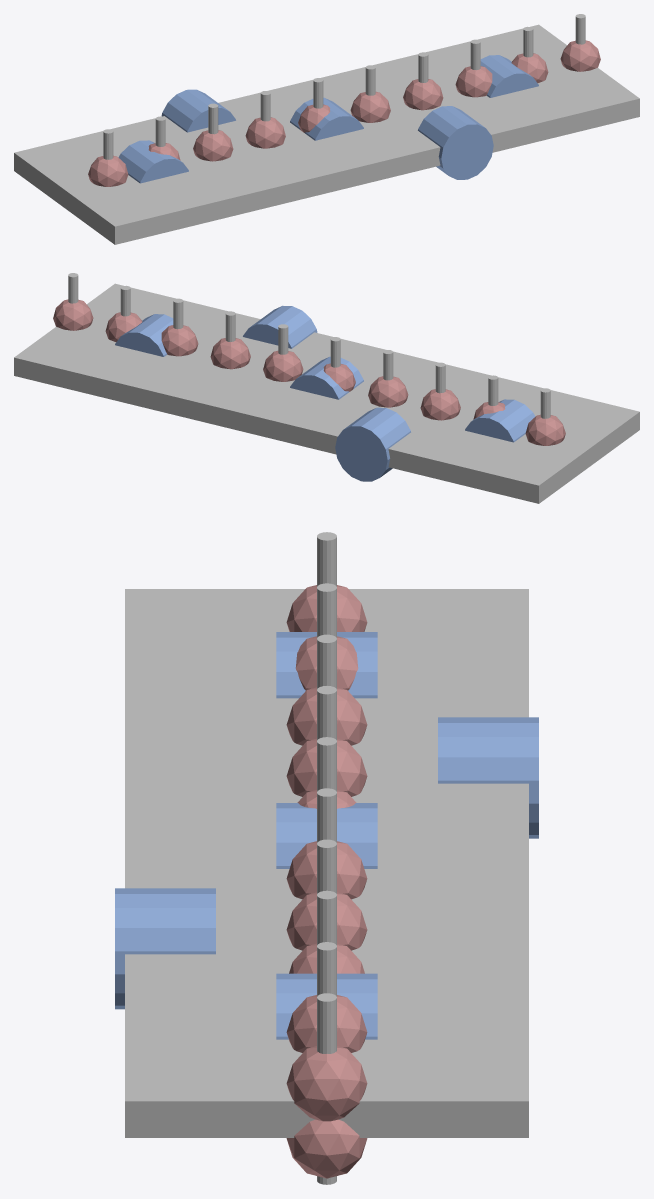
The model's file is cell_membrane.glb.
3 renders of one model, top to bottom at view 1: azimuth 30°, elevation 25°; view 2: azimuth 150°, elevation 25°; view 3: azimuth 270°, elevation 25°, orthographic. The views are drawn at different scales.
Visible parts, largest first — view 1: world; view 2: world; view 3: world.
Part boxes in pixels (box(x1,y1,x2,y2)): world: box(14, 14, 639, 244); world: box(14, 273, 639, 503); world: box(115, 532, 538, 1184).
Size of the model in its own units: 6.1 by 1 by 2.1.
